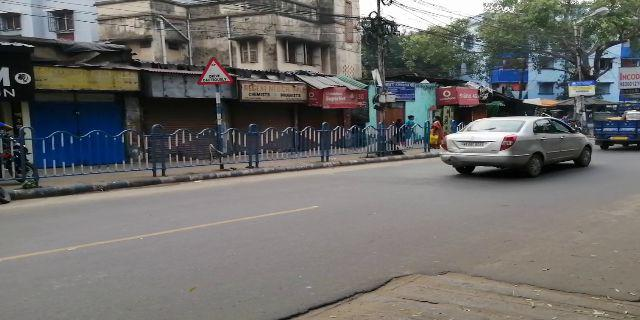Car: (444, 110, 595, 175)
